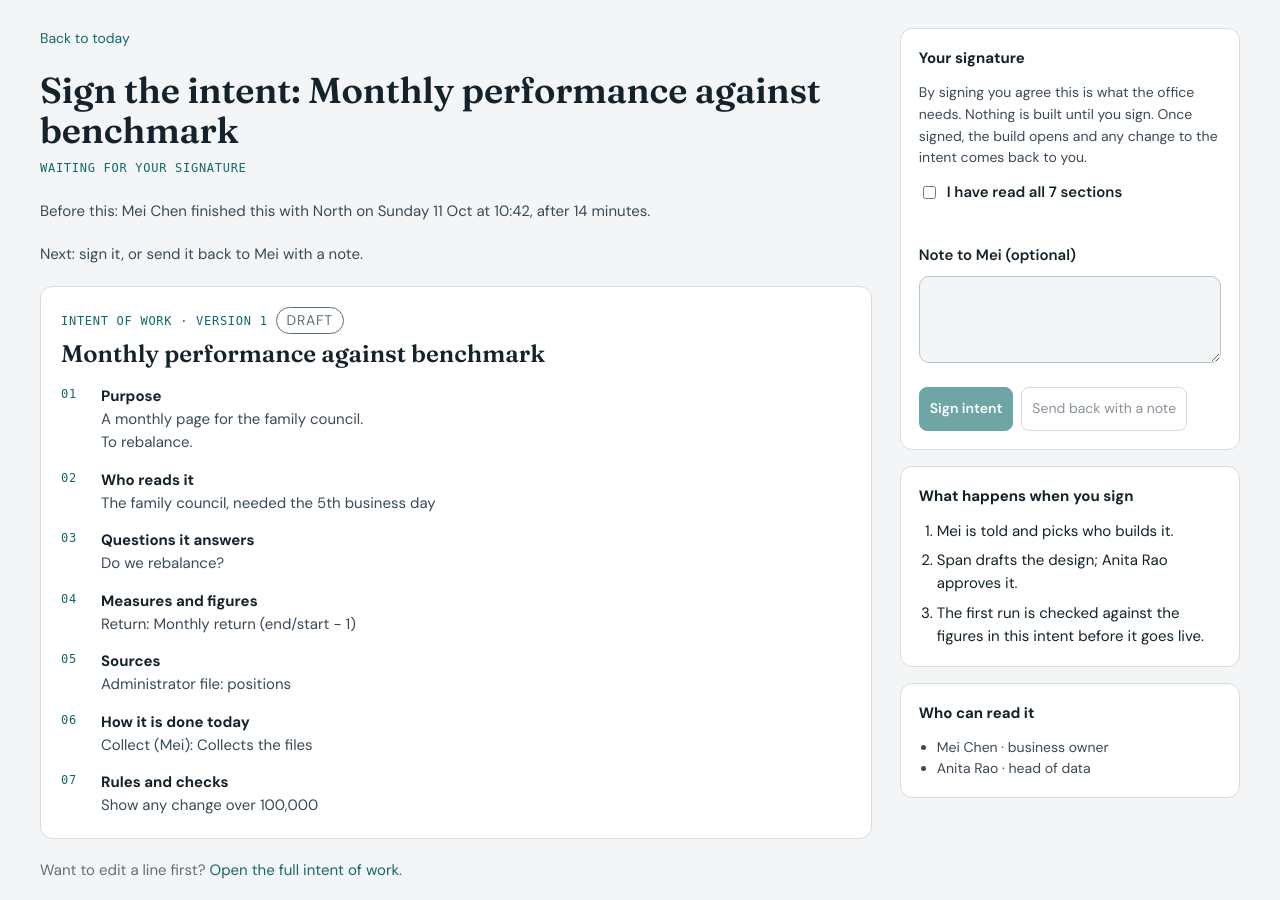
it: the sign page › Send back needs a note and goes to the send-back route
The image size is (1280, 900).
Expected: the button "Send back with a note" is disabled, [1021,387,1187,431]
Step 1. Type "Which benchmark version?" into the text box labelled "Note to Mei (optional)" → (1070, 319), box [919,276,1221,363]
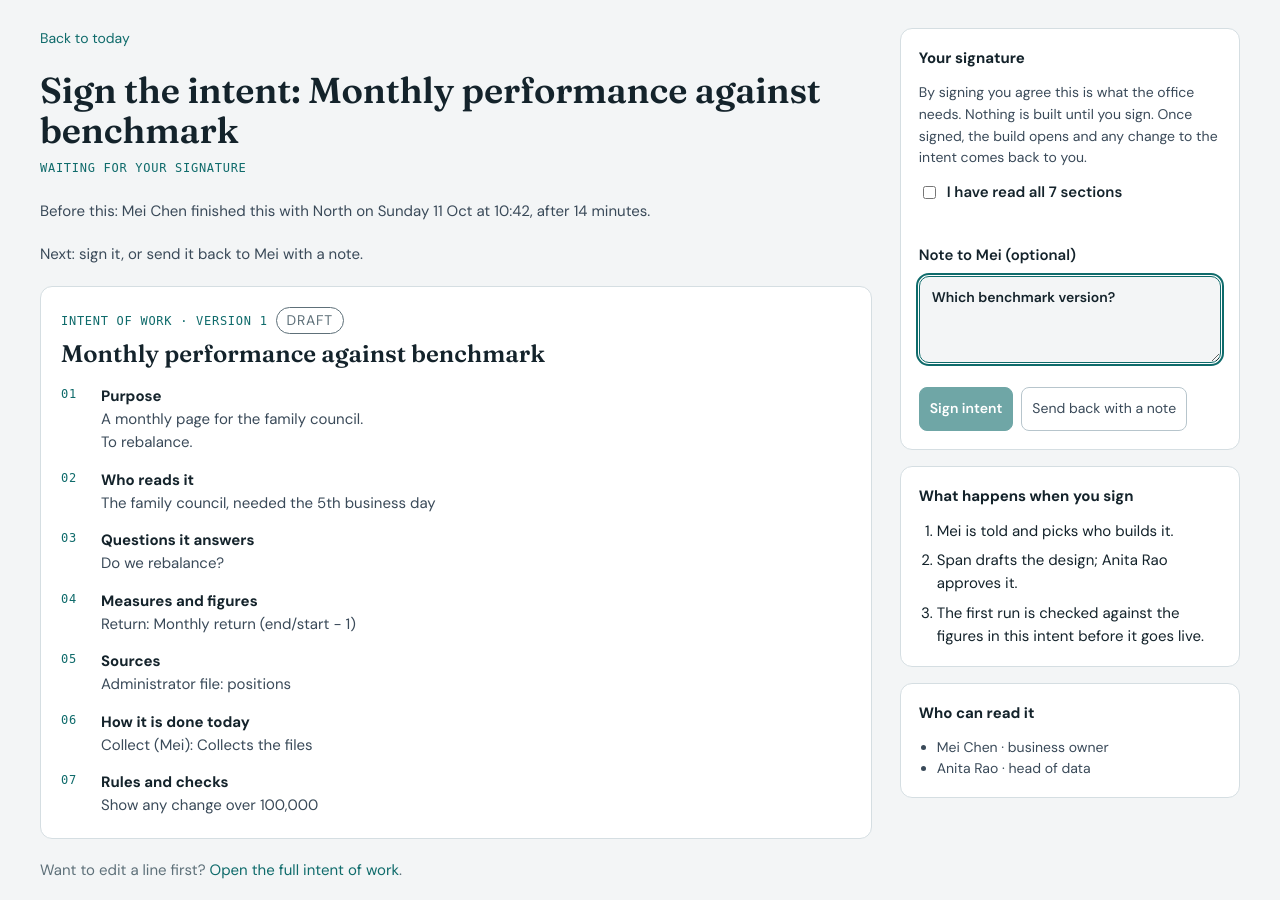
Step 2. Click the button "Send back with a note" → (1104, 409), box [1021,387,1187,431]
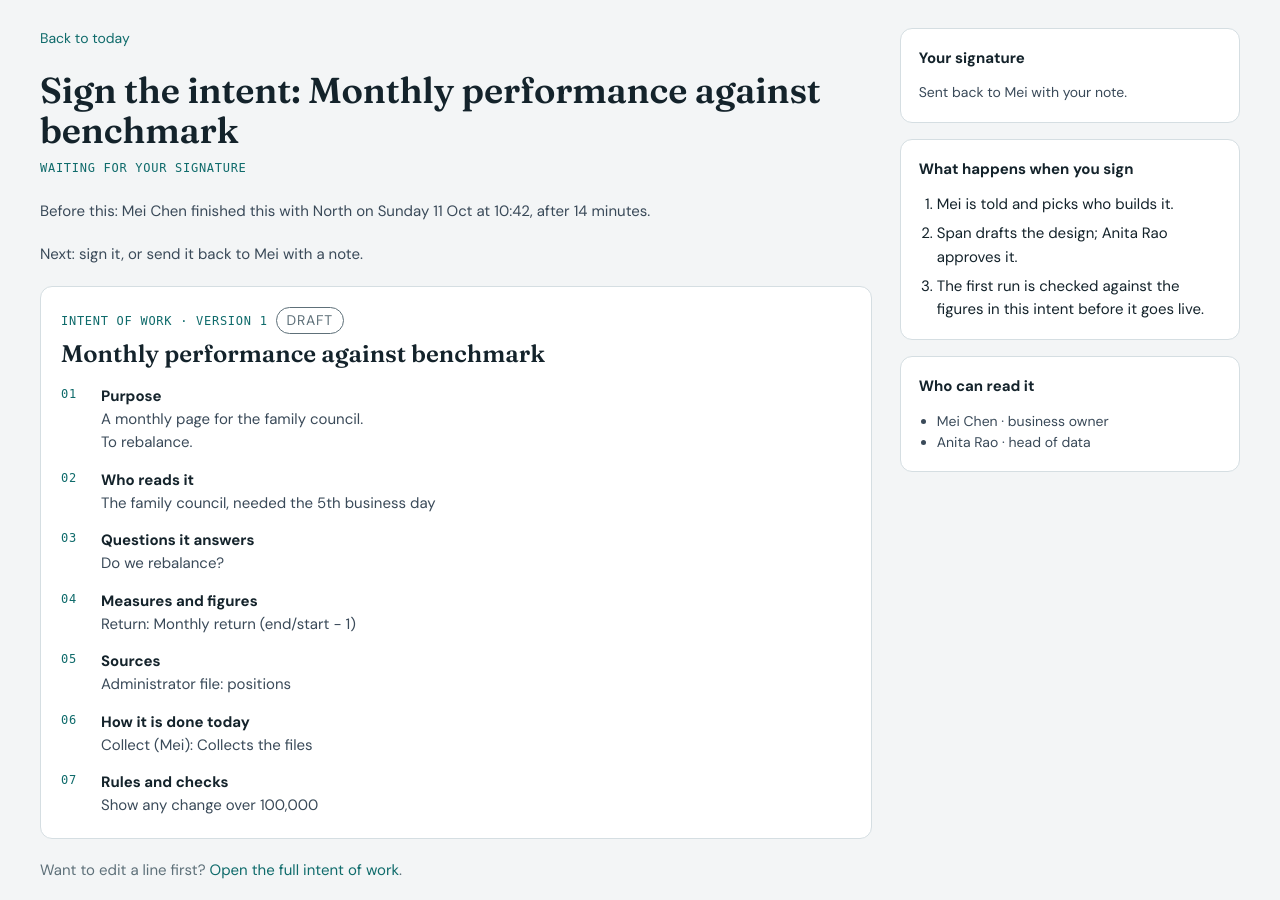
Expected: the text "Sent back to Mei with your note." is shown, [919,83,1127,101]
